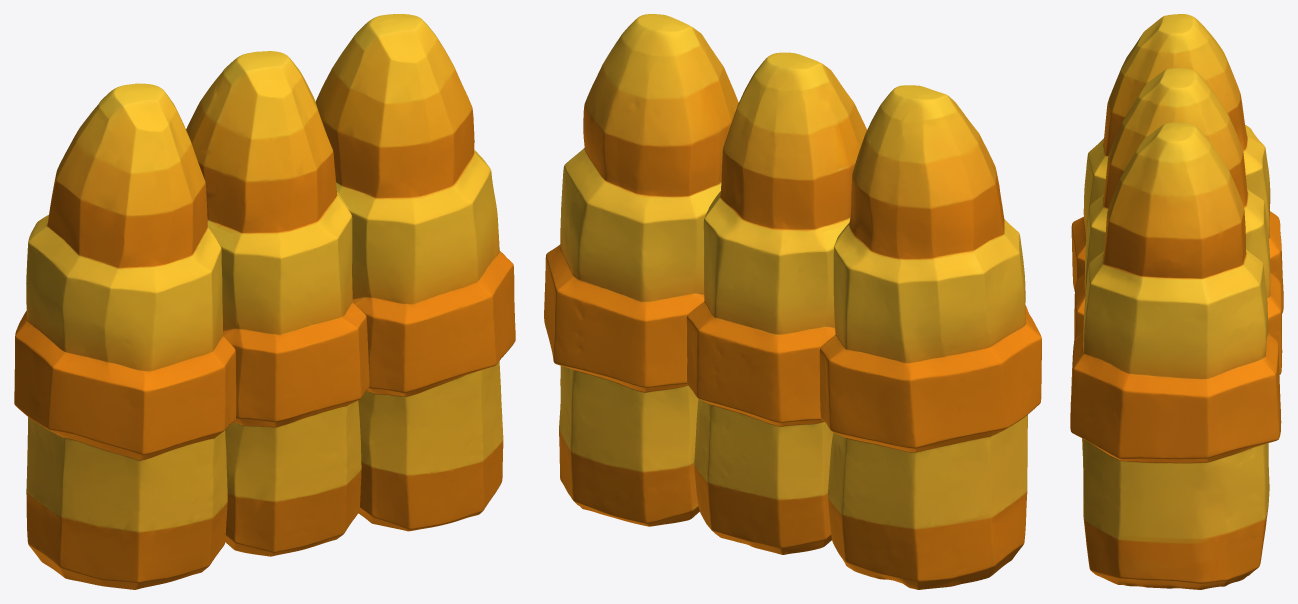
Rendered from Meshy_AI_ammo_bundle_3d_0917235257_image-to-3d-texture.fbx.
The picture shows the model from 3 angles, left to right: view 1: azimuth 30°, elevation 25°; view 2: azimuth 150°, elevation 25°; view 3: azimuth 270°, elevation 25°; orthographic projection. The views are drawn at different scales.
Parts seen in each view (by area): view 1: Mesh_0; view 2: Mesh_0; view 3: Mesh_0.
Boxes of the visible parts, left/top/right/bottom form: Mesh_0: left=14, top=14, right=515, bottom=589; Mesh_0: left=544, top=14, right=1041, bottom=589; Mesh_0: left=1070, top=14, right=1283, bottom=589.
Size of the model in its own units: 190 by 184 by 82.96.
1 material, 1 textured.
